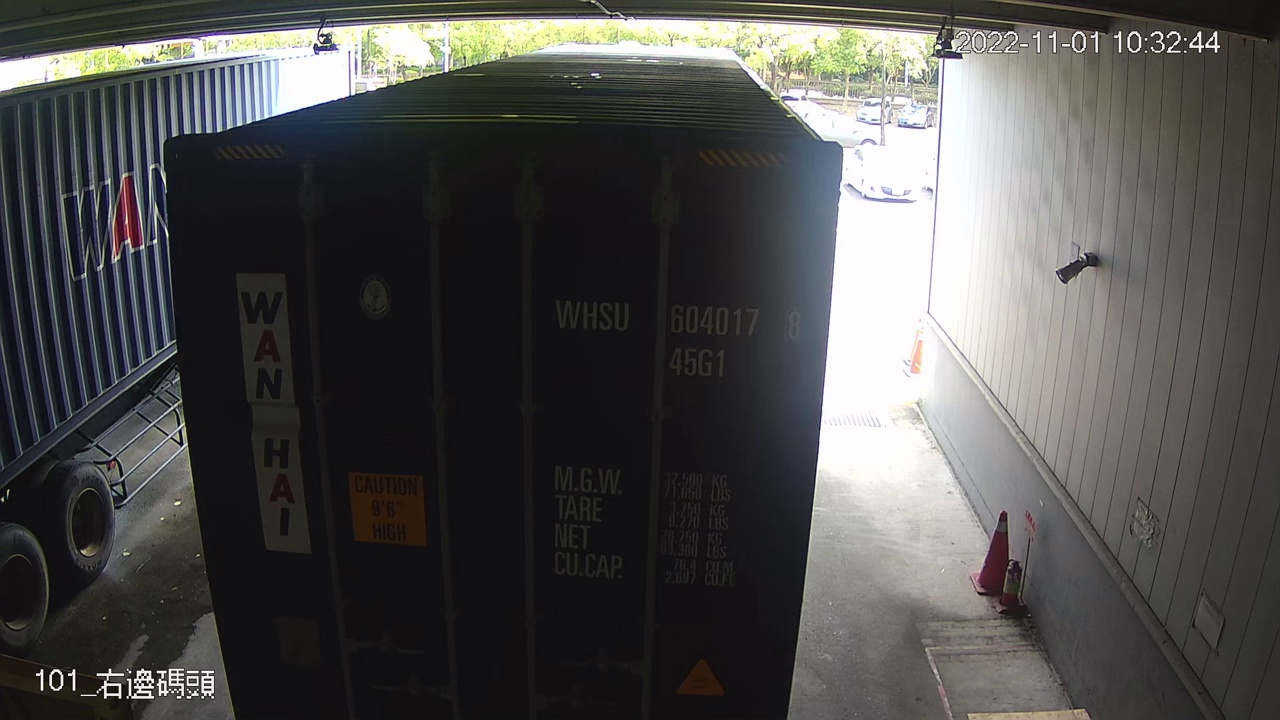container: (549, 287, 810, 386)
